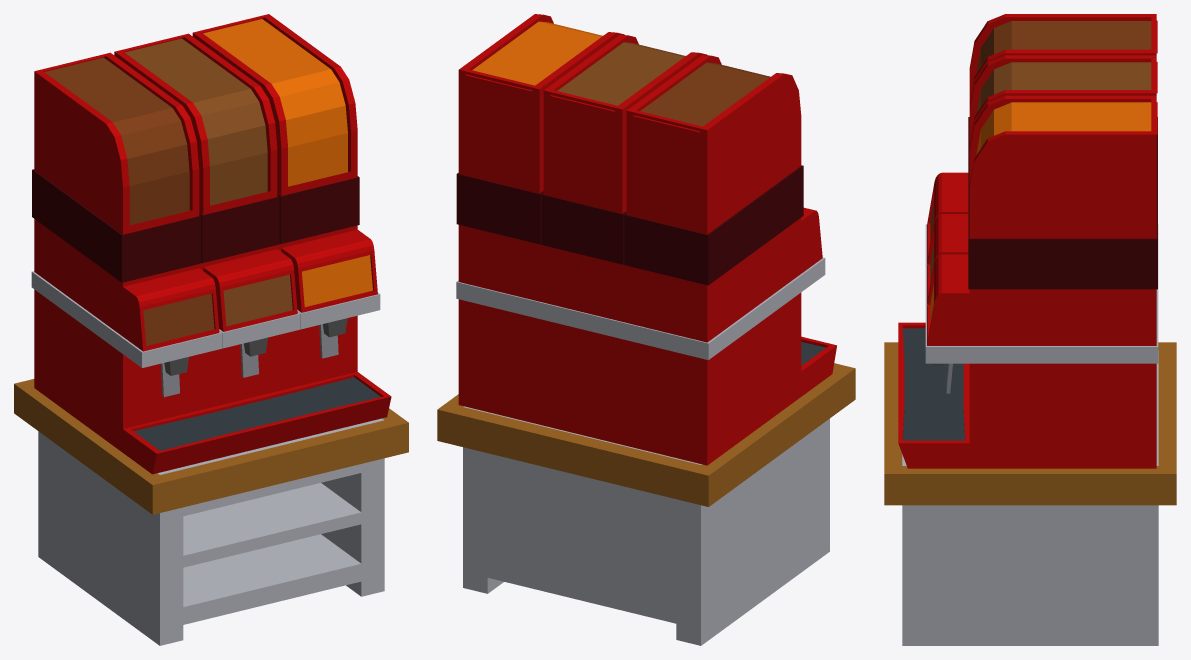
Rendered from soda_machine.fbx.
3 views of the same model, side by side, from view 1: azimuth 30°, elevation 25°; view 2: azimuth 150°, elevation 25°; view 3: azimuth 270°, elevation 25° (orthographic). The views are drawn at different scales.
Visible parts, largest first — view 1: soda_machine, soda_top; view 2: soda_machine, soda_top; view 3: soda_machine, soda_top.
Part boxes in pixels (bbox=[...]): soda_machine: bbox=[31, 14, 391, 474]; soda_top: bbox=[14, 379, 408, 645]; soda_machine: bbox=[456, 14, 836, 465]; soda_top: bbox=[437, 363, 855, 645]; soda_machine: bbox=[898, 14, 1158, 468]; soda_top: bbox=[884, 342, 1176, 645].
Size of the model in its own units: 158 by 287 by 148.
